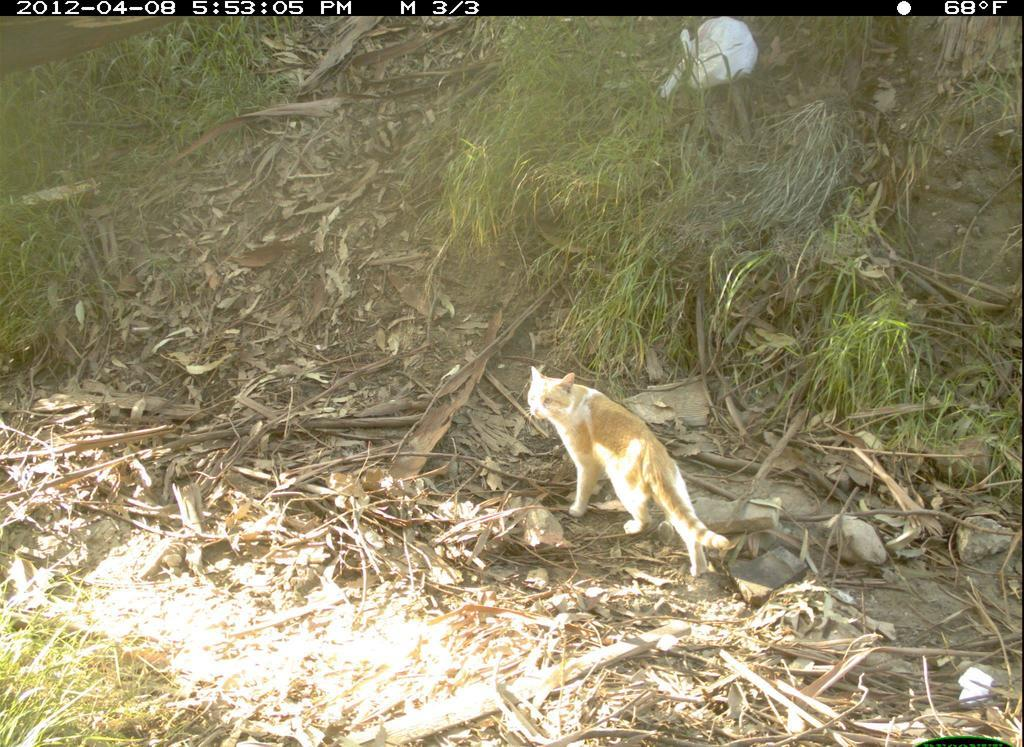cat: (524, 365, 740, 584)
